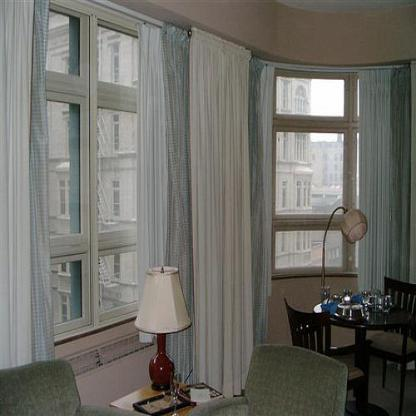chair: (184, 343, 348, 415), (283, 295, 363, 415), (0, 357, 148, 415), (366, 275, 415, 412)
diningtable: (314, 291, 415, 415)
